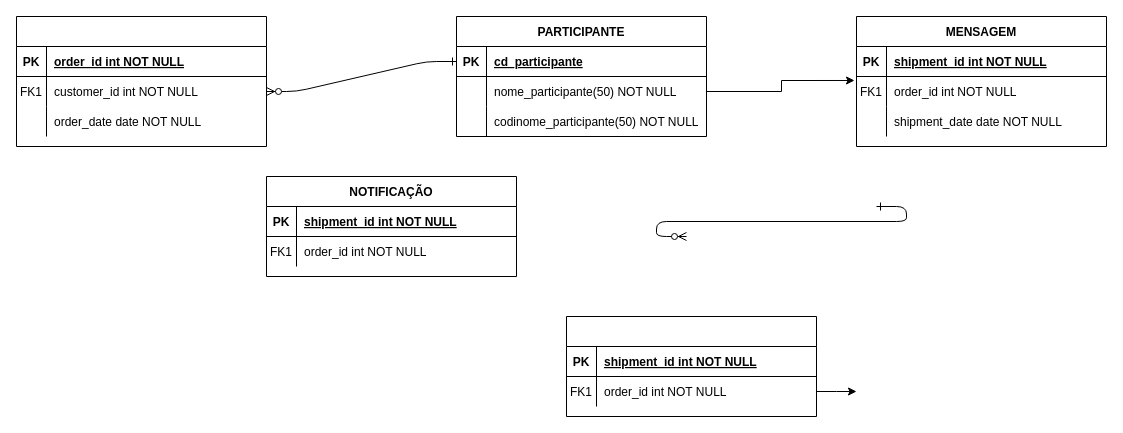
The diagram is 1123 pixels wide and 433 high, and some of its shapes have lost their labels. The shapes that lost their labels are listed below. From the top down, each one's box as (x1, y1, x2, y2) in pixels, then its label:
(16, 16, 266, 146): DEPARTAMENTO
(566, 316, 816, 416): SORTEIO
